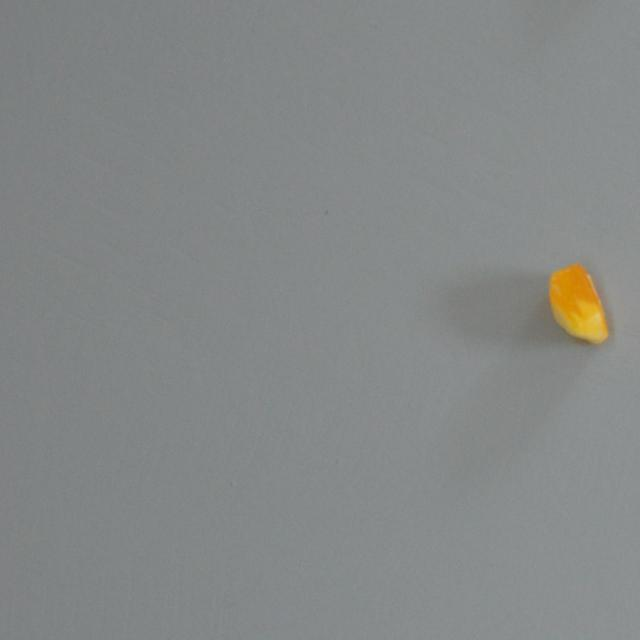estandar: (545, 262, 609, 344)
